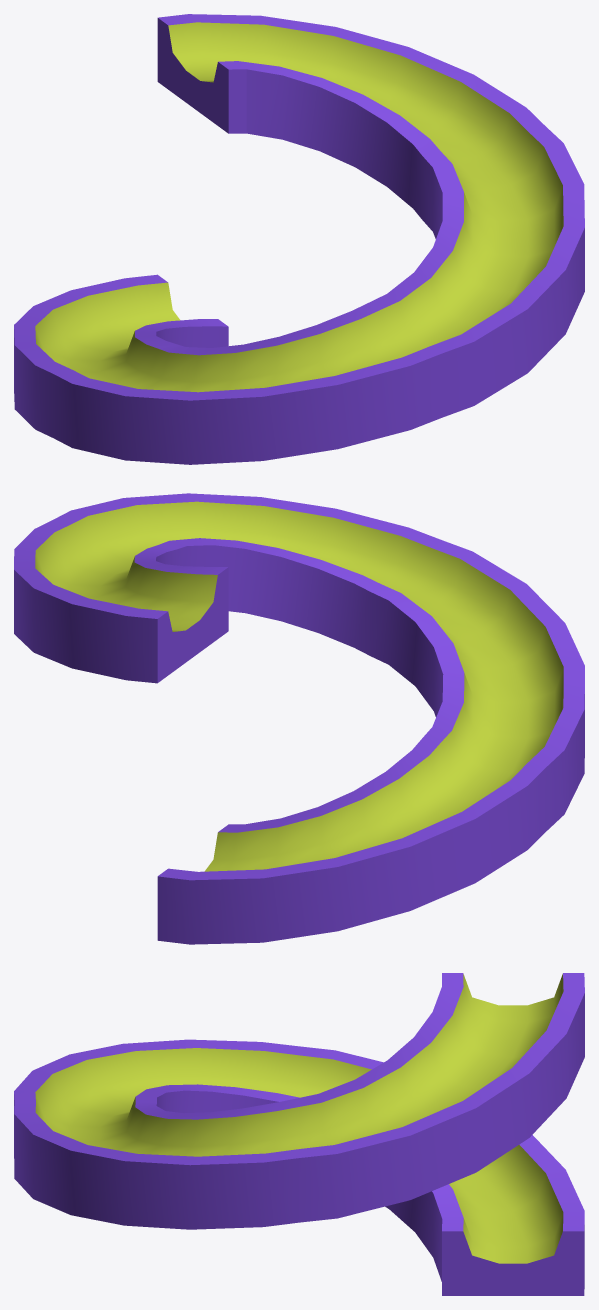
File: helix_left-col.dae
The picture shows the model from 3 angles, top to bottom: view 1: azimuth 30°, elevation 25°; view 2: azimuth 150°, elevation 25°; view 3: azimuth 270°, elevation 25°; orthographic projection.
Visible parts, largest first — view 1: helix_left-col; view 2: helix_left-col; view 3: helix_left-col.
Boxes of the visible parts, <box> form: helix_left-col: <box>14,14,584,464</box>; helix_left-col: <box>14,493,584,944</box>; helix_left-col: <box>14,973,584,1295</box>.
Size of the model in its own units: 4.01 by 4.01 by 2.5.
